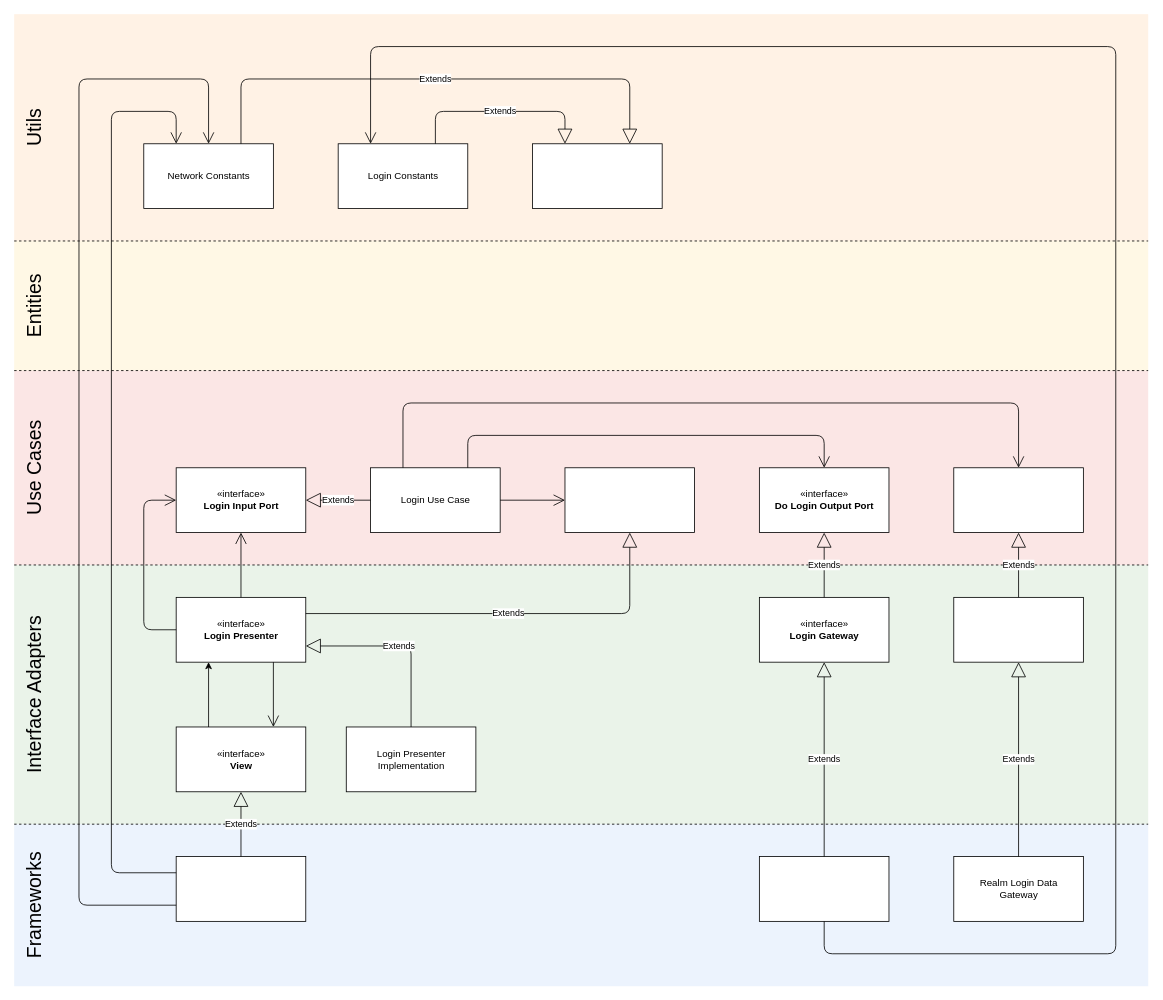
Image size: 1163x1000. Some labels were removed from this diagram. Here are the shapes that lost their labels. From the top down, the centre of each, then its label:
At pixel 597 176: "Constants".
At pixel 629 500: "«interface» On Login Output Port".
At pixel 1018 500: "«interface» Save Login Token Output Port".
At pixel 1018 629: "«interface» Login Data Gateway".
At pixel 240 888: "View Implementation".
At pixel 824 888: "Retrofin Login Gateway".
